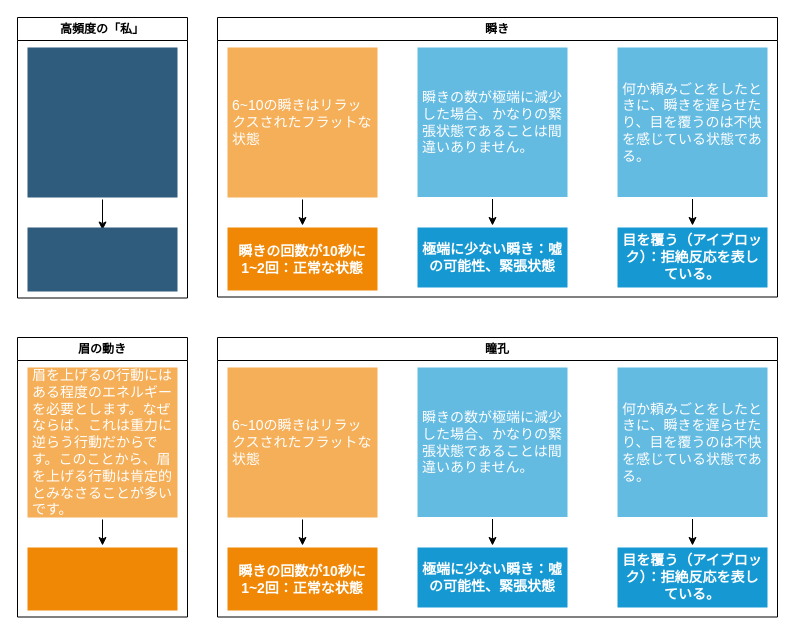
Image size: 795x635. Some labels were removed from this diagram. The centre of each missing label's shape, as x and y in pixels:
"「私」の高頻度 「ボール」を意識している/権力/正直" belongs at (x=102, y=259).
"「私」を多く言う人は - 会話のボールを意識する人 - 権力者 - 正直者 これらの要素を自由要旨する" belongs at (x=102, y=122).
"フラッシュとも呼ばれる急激な眉の上昇が見られる場合、それは良い兆候です" belongs at (x=102, y=578).
